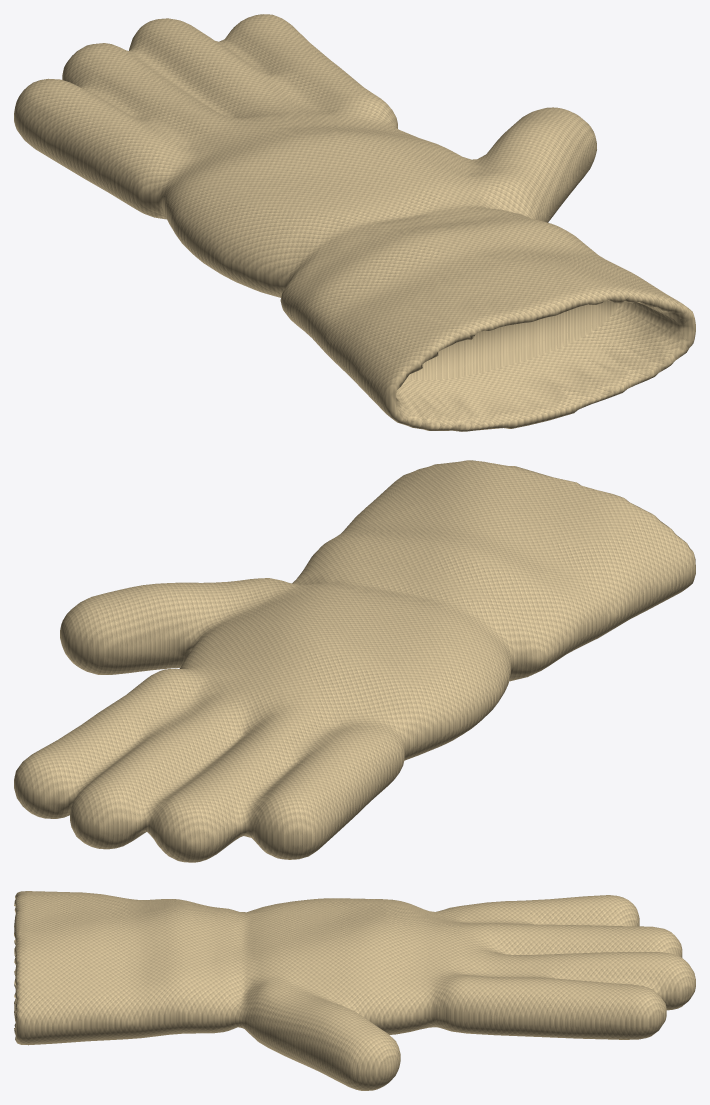
The model's file is nomex-glove.glb.
3 views of the same model, one above another, from view 1: azimuth 30°, elevation 25°; view 2: azimuth 150°, elevation 25°; view 3: azimuth 270°, elevation 25° (orthographic). The views are drawn at different scales.
Visible parts, largest first — view 1: NomexGlove_Shell; view 2: NomexGlove_Shell; view 3: NomexGlove_Shell.
Part boxes in pixels (x1,y1,x2,y2): NomexGlove_Shell: [14, 14, 695, 431]; NomexGlove_Shell: [14, 460, 695, 862]; NomexGlove_Shell: [14, 891, 695, 1090].
Size of the model in its own units: 0.1483 by 0.0397 by 0.2616.
1 material, 1 textured.
